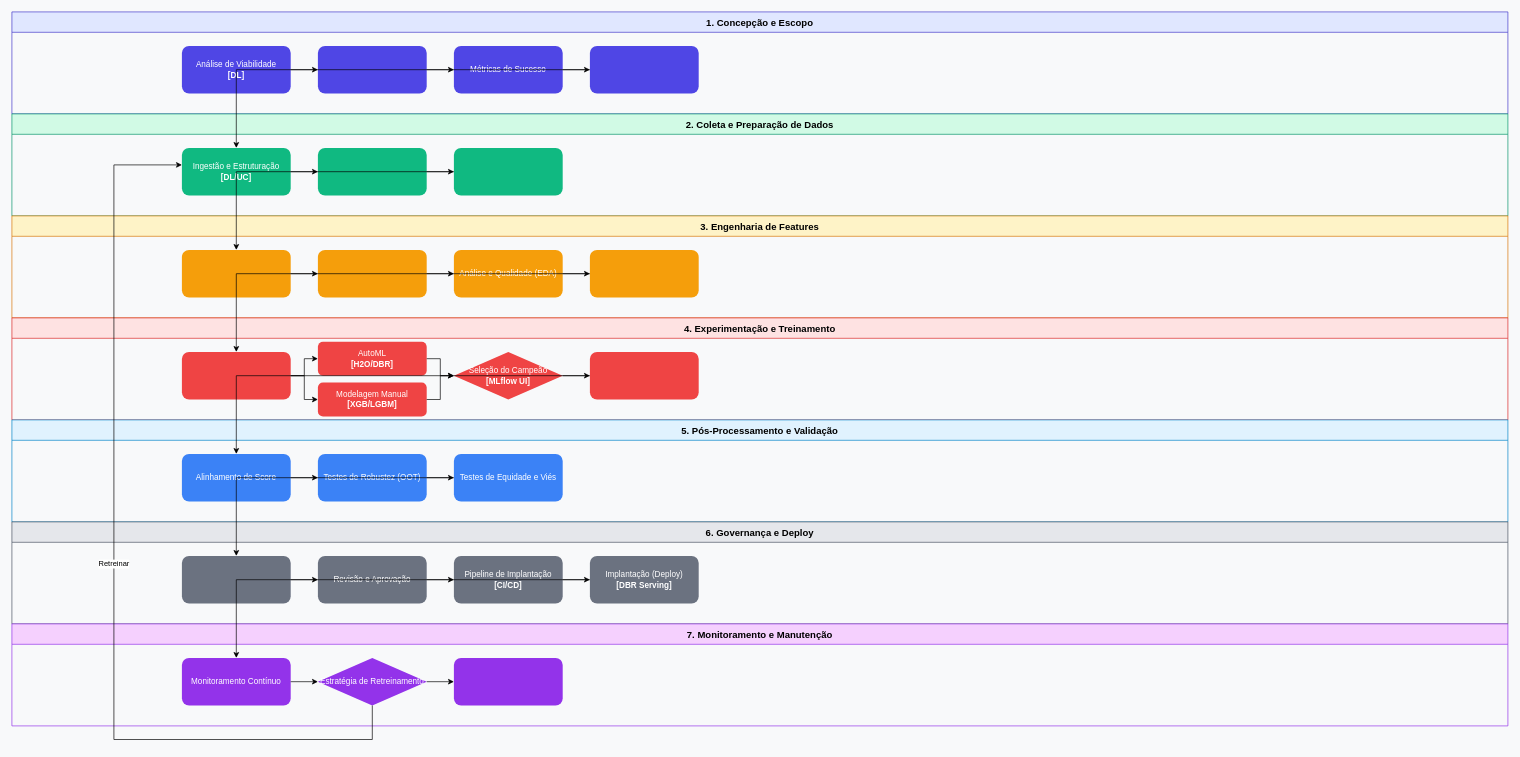
The diagram is 1520 pixels wide and 757 high, and some of its shapes have lost their labels. Each missing label, with the centre of its shape:
"Amostragem (In-Time)" goes at [372,171].
"Amostragem (Out-of-Time)" goes at [508,171].
"Arquivamento" goes at [508,681].
"Definição de Performance (Target)" goes at [644,69].
"Desenvolvimento de Features [FeatureStore]" goes at [372,273].
"Documentação e Registro [Model Registry]" goes at [236,579].
"Mapeamento de Fontes" goes at [236,273].
"Otimização de Hiperparâmetros [Optuna]" goes at [644,375].
"Público-alvo" goes at [372,69].
"Seleção de Features" goes at [644,273].
"Treino Baseline [MLflow]" goes at [236,375].
